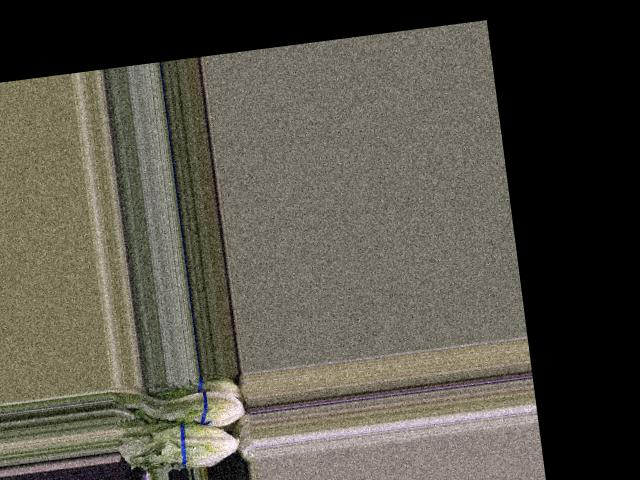lettuce: (135, 378, 247, 437)
